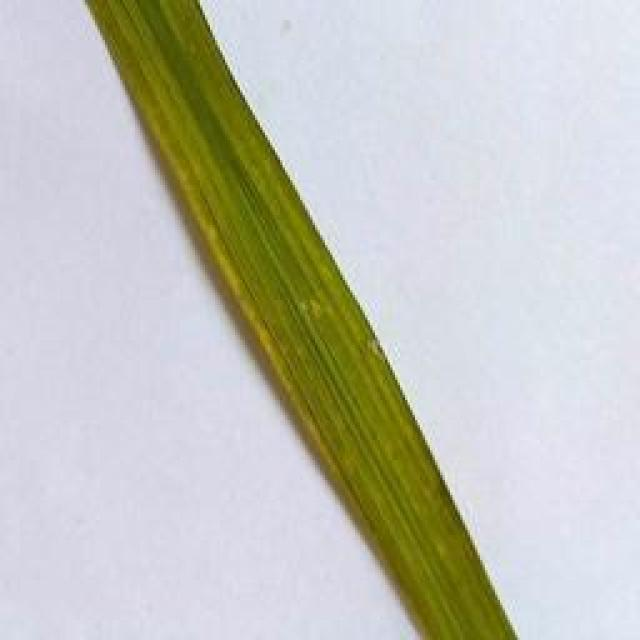Bacterial_Blight: (131, 87, 292, 393)
